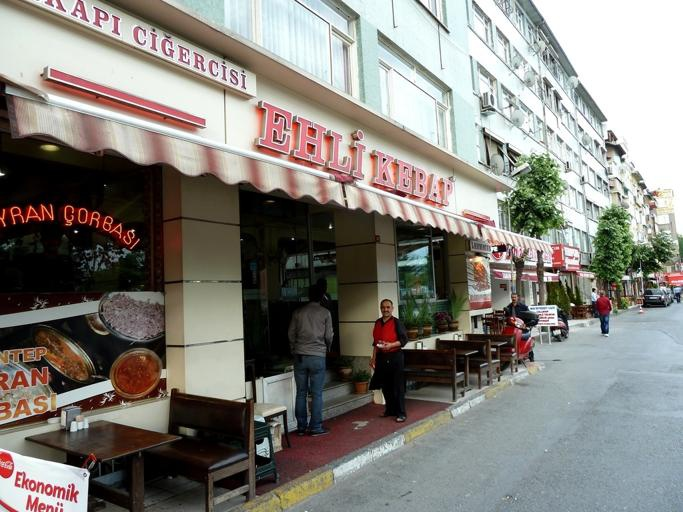non-vehicle: (498, 306, 539, 371), (550, 306, 569, 340)
